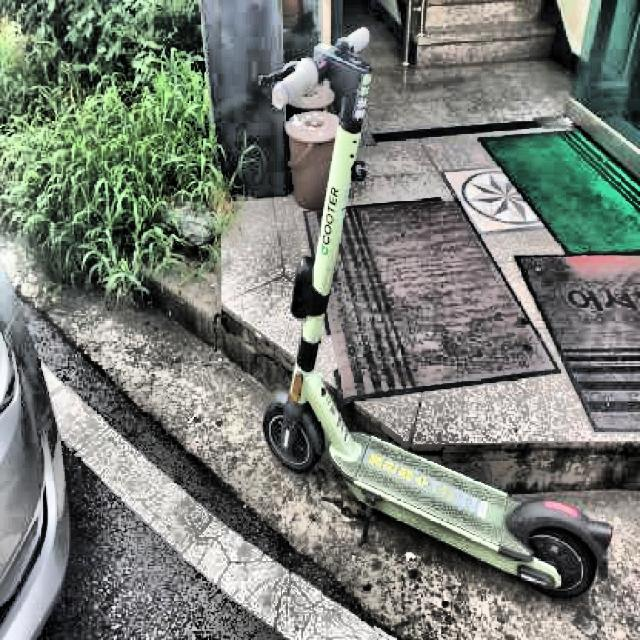bike: (261, 30, 620, 603)
car: (0, 152, 73, 640)
